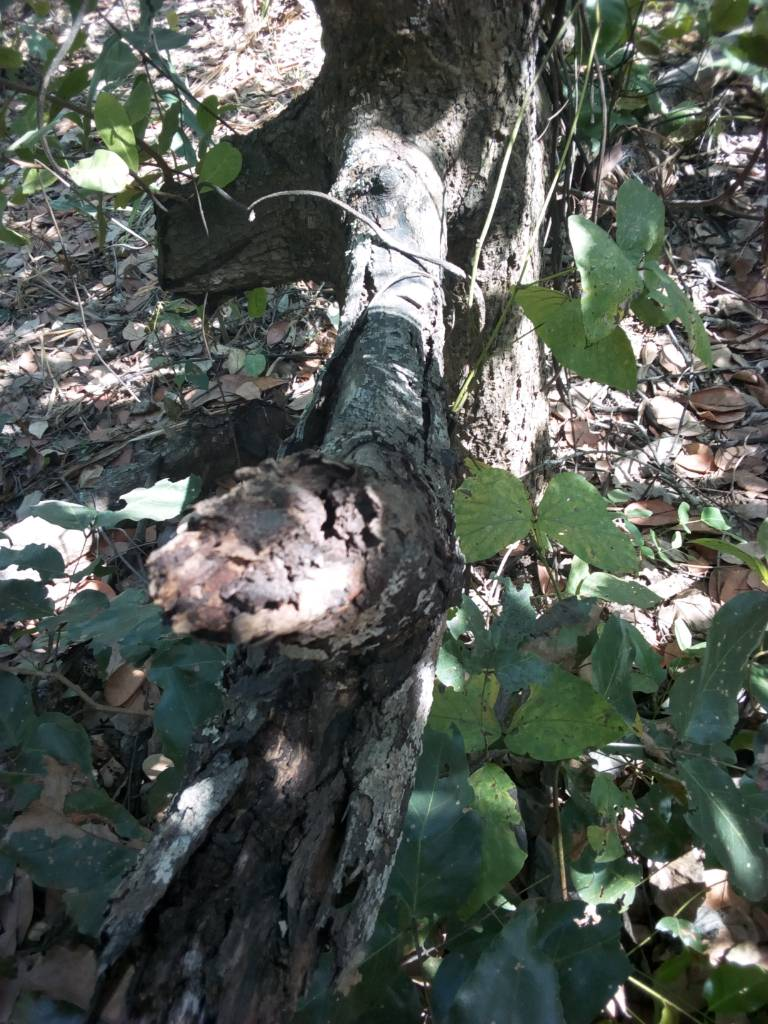Termites: (105, 730, 385, 1024), (144, 455, 430, 644)
